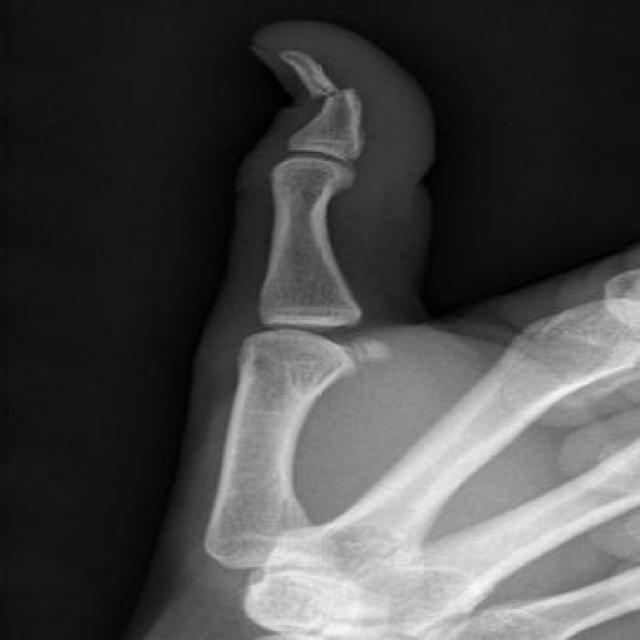fracture: (302, 75, 368, 106)
